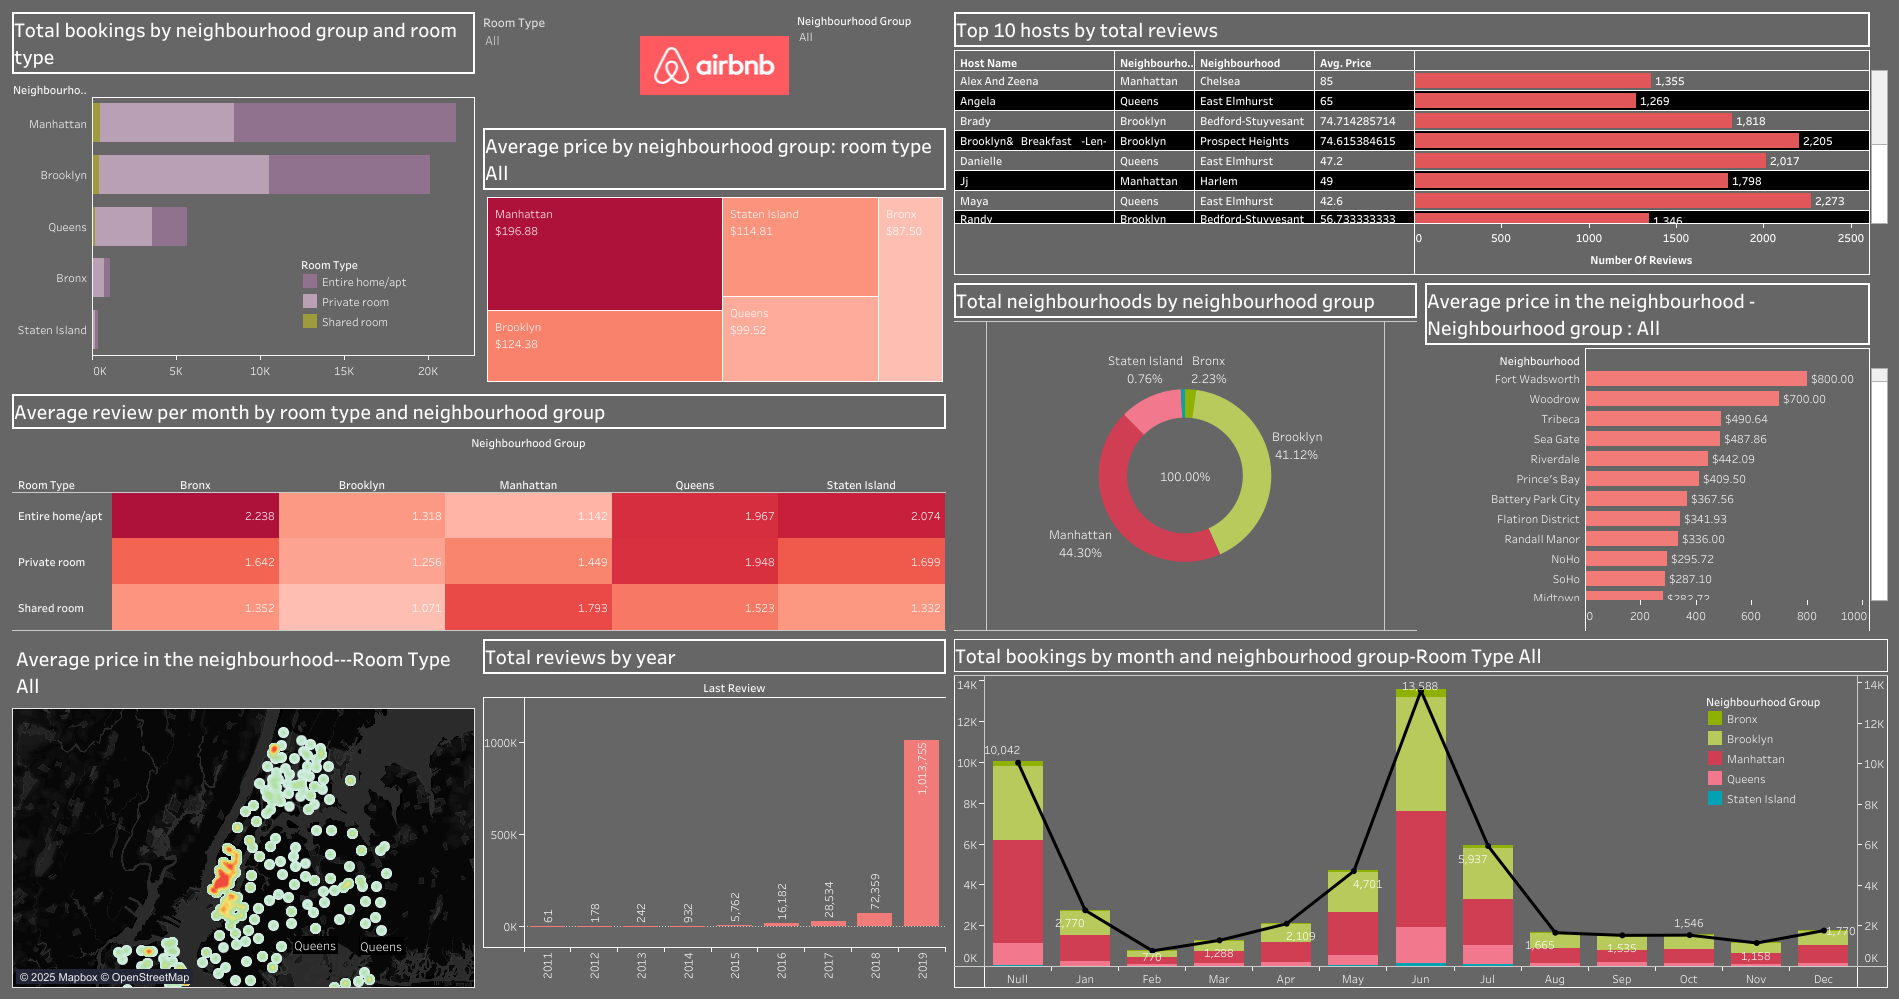

The page's visual inventory and layout, read from the dashboard file:
{"tool":"tableau","page":{"name":"Airbnb_Dashboard ","canvas":[1900,1000],"ordinal":0},"visuals":[{"type":"worksheet","title":"Total bookings by neighbourhood","mark":"Automatic","rows":["neighbourhood_group"],"cols":["name"],"box":[8,8,470.9,382]},{"type":"filter","title":"Avg price in the neighbourhood","param":"[federated.1kbslk60rqx85y0zlbs5k0bsqy6h].[none:room_type:nk]","box":[478.9,8,157,116]},{"type":"image","param":"Image/Airbnb-Logo-Contest.png","box":[636,8,157,116]},{"type":"filter","title":"avg price in the neighbourhood (filtered by neighbourhood grp)","param":"[federated.1kbslk60rqx85y0zlbs5k0bsqy6h].[none:neighbourhood_group:nk]","box":[793,8,157,116]},{"type":"worksheet","title":"Top 10 hosts","mark":"Automatic","rows":["host_name","neighbourhood_group","neighbourhood","price"],"cols":["number_of_reviews"],"box":[950,8,942,271]},{"type":"worksheet","title":"Avg price by neighbourhood grp","mark":"Automatic","box":[478.9,124,471,266]},{"type":"legend","title":"Total bookings by neighbourhood","param":"[federated.1kbslk60rqx85y0zlbs5k0bsqy6h].[none:room_type:nk]","box":[300,255,140,80]},{"type":"worksheet","title":"Total neighbourhoods","mark":"Pie","rows":["Calculation_2312316968572915713","Calculation_2312316968572915713"],"box":[950,279,471,356]},{"type":"worksheet","title":"avg price in the neighbourhood (filtered by neighbourhood grp)","mark":"Automatic","rows":["neighbourhood"],"cols":["price"],"box":[1420.9,279,471.1,356]},{"type":"worksheet","title":"Avg review per month","mark":"Square","rows":["room_type"],"cols":["neighbourhood_group"],"box":[8,390,942,245]},{"type":"worksheet","title":"Avg price in the neighbourhood","mark":"Heatmap","rows":["latitude"],"cols":["longitude"],"box":[8,635,470.9,357]},{"type":"worksheet","title":"Total reviews by year","mark":"Bar","rows":["number_of_reviews"],"cols":["last_review"],"box":[478.9,635,471,357]},{"type":"worksheet","title":"Total bookings by month","mark":"Bar","rows":["name","name"],"cols":["last_review"],"box":[950,635,942,357]},{"type":"legend","title":"Total bookings by month","param":"[federated.1kbslk60rqx85y0zlbs5k0bsqy6h].[none:neighbourhood_group:nk]","box":[1705,692,140,116]}]}

Visuals, with their boxes in screenshot pixels (x1, y1, x2, y2), scaled from the page's 1900x1000 canvas onto the 1899x999 screenshot:
"Total bookings by neighbourhood" worksheet: bbox=(8, 8, 479, 390)
"Avg price in the neighbourhood" filter: bbox=(479, 8, 636, 124)
image: bbox=(636, 8, 793, 124)
"avg price in the neighbourhood (filtered by neighbourhood grp)" filter: bbox=(793, 8, 950, 124)
"Top 10 hosts" worksheet: bbox=(950, 8, 1891, 279)
"Avg price by neighbourhood grp" worksheet: bbox=(479, 124, 949, 390)
"Total bookings by neighbourhood" legend: bbox=(300, 255, 440, 335)
"Total neighbourhoods" worksheet (Pie marks): bbox=(950, 279, 1420, 634)
"avg price in the neighbourhood (filtered by neighbourhood grp)" worksheet: bbox=(1420, 279, 1891, 634)
"Avg review per month" worksheet (Square marks): bbox=(8, 390, 950, 634)
"Avg price in the neighbourhood" worksheet (Heatmap marks): bbox=(8, 634, 479, 991)
"Total reviews by year" worksheet (Bar marks): bbox=(479, 634, 949, 991)
"Total bookings by month" worksheet (Bar marks): bbox=(950, 634, 1891, 991)
"Total bookings by month" legend: bbox=(1704, 691, 1844, 807)
